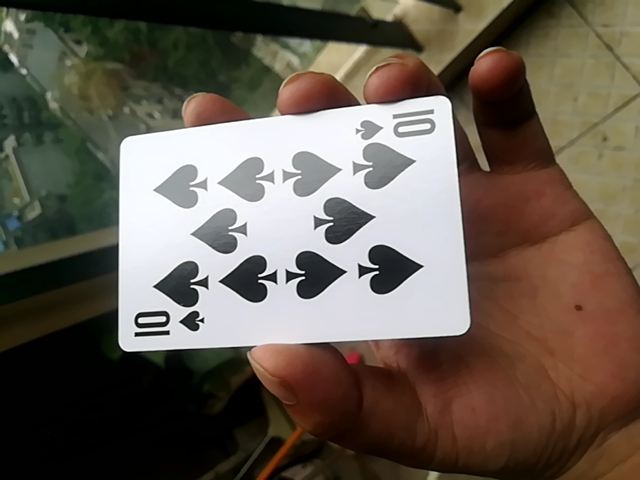ht 10: (109, 91, 473, 362)
